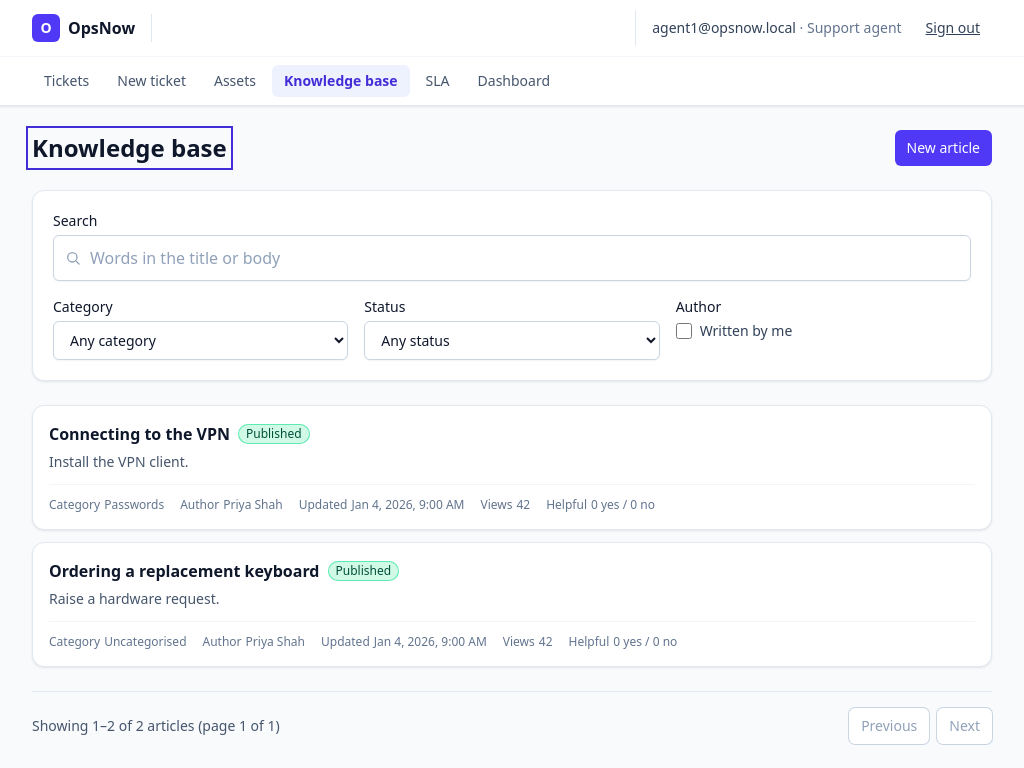
Test: article list — filtering › narrows the list by the debounced search box
Expected: the heading "Knowledge base" is shown, [32, 132, 227, 164]
Expected: the link "Ordering a replacement keyboard" is shown, [49, 559, 320, 583]
In the search field labelled "Search": point(512, 258) [53, 235, 971, 281], type "VPN"
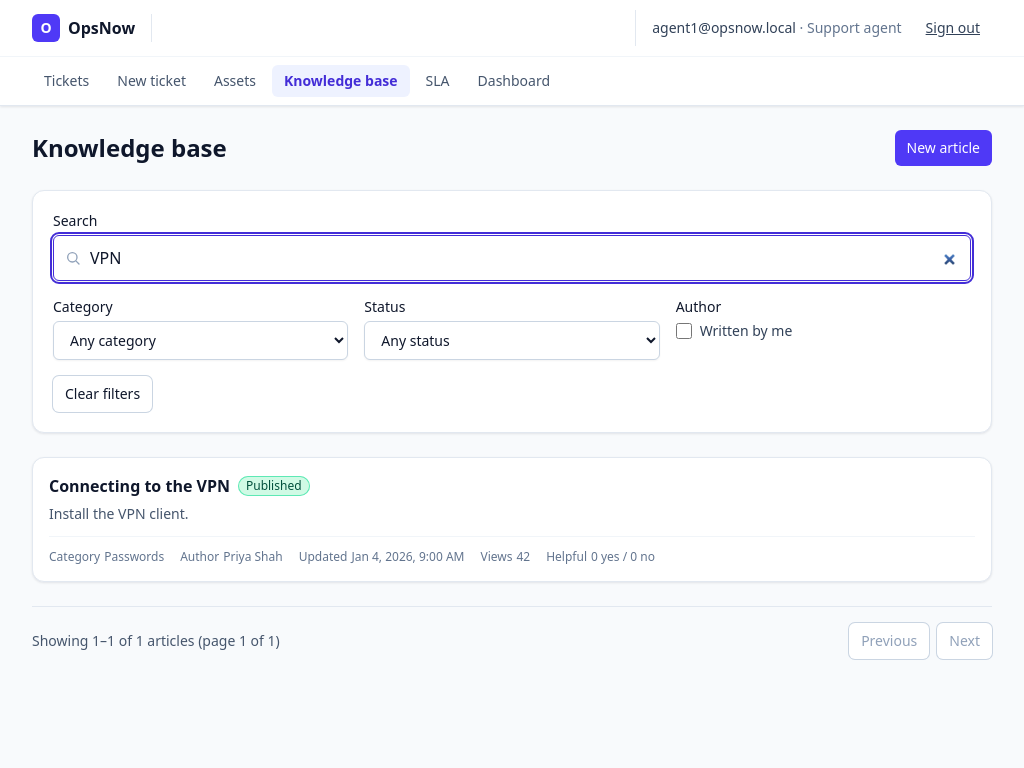
Expected: the link "Connecting to the VPN" is shown, [49, 474, 230, 498]
Expected: the link "Ordering a replacement keyboard" is gone
